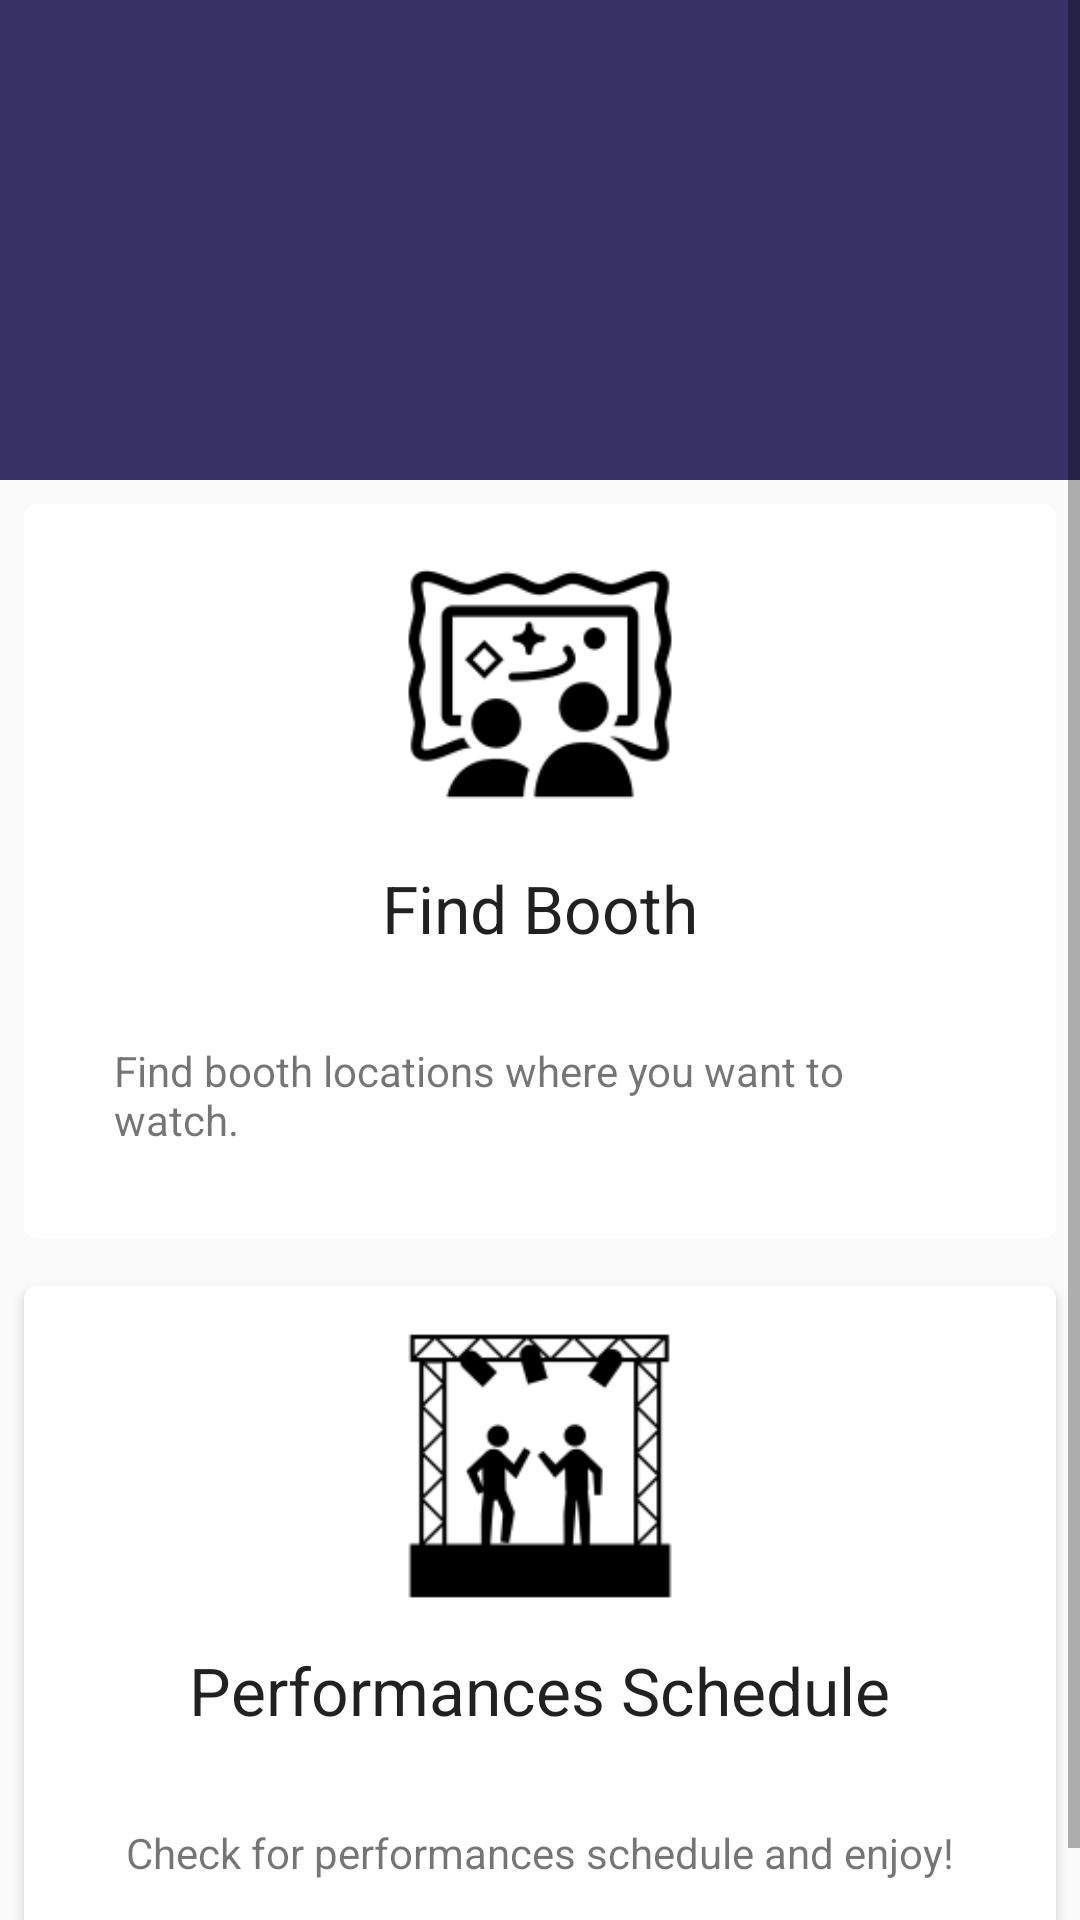

Screen size 1080px x 1920px. Icon name, then its box in pixels as [x1,y1,x2,y2]:
stage: [408,1334,672,1598]
